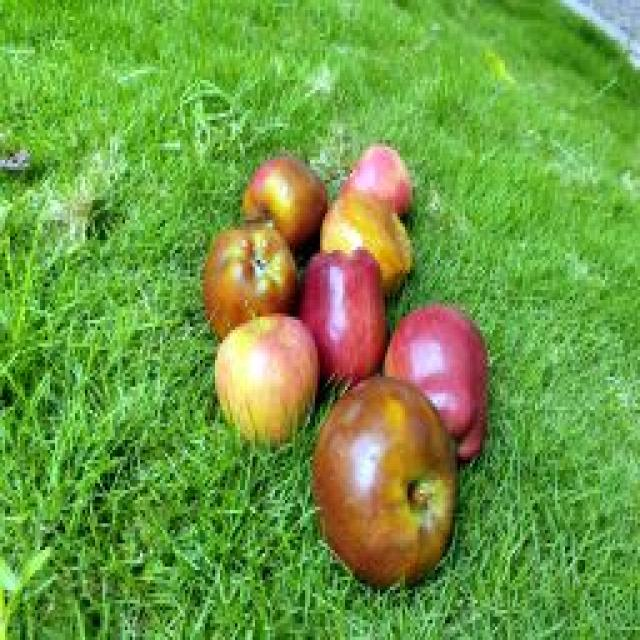Organik: (314, 371, 466, 584), (187, 301, 314, 451), (392, 298, 492, 447), (300, 243, 390, 377), (202, 218, 304, 331), (230, 143, 330, 247), (310, 190, 408, 290), (351, 136, 418, 220)
